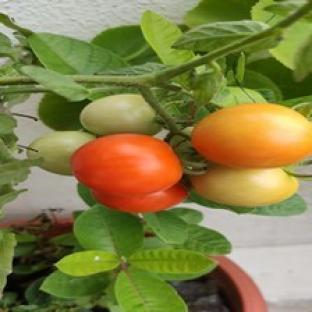Tomato: (193, 104, 311, 168), (72, 134, 182, 194), (191, 166, 298, 207), (80, 94, 161, 135), (27, 131, 94, 175), (92, 184, 188, 213)
